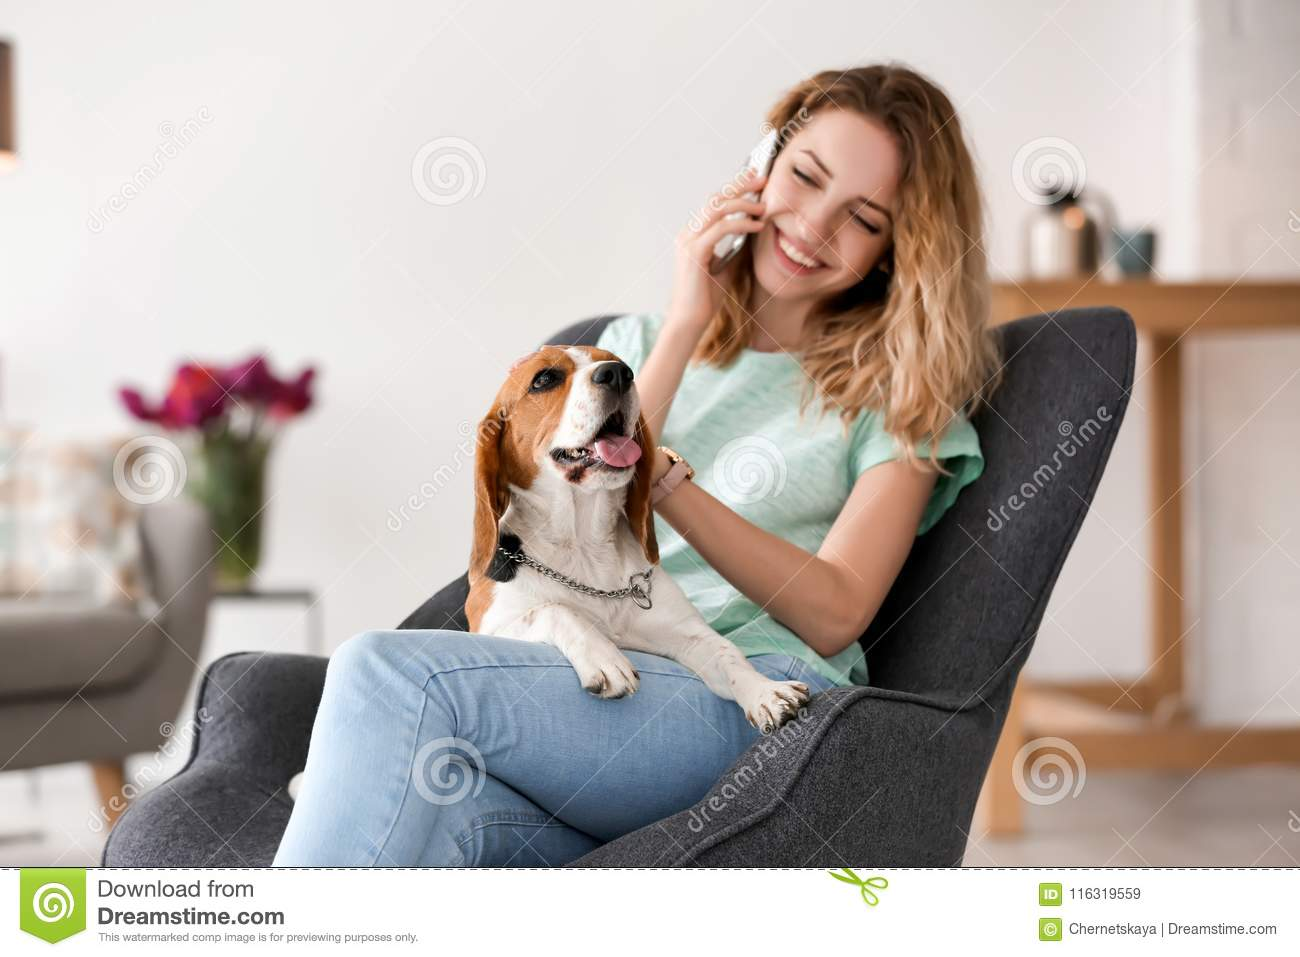phone: (709, 124, 780, 268)
talk: (675, 119, 889, 358)
